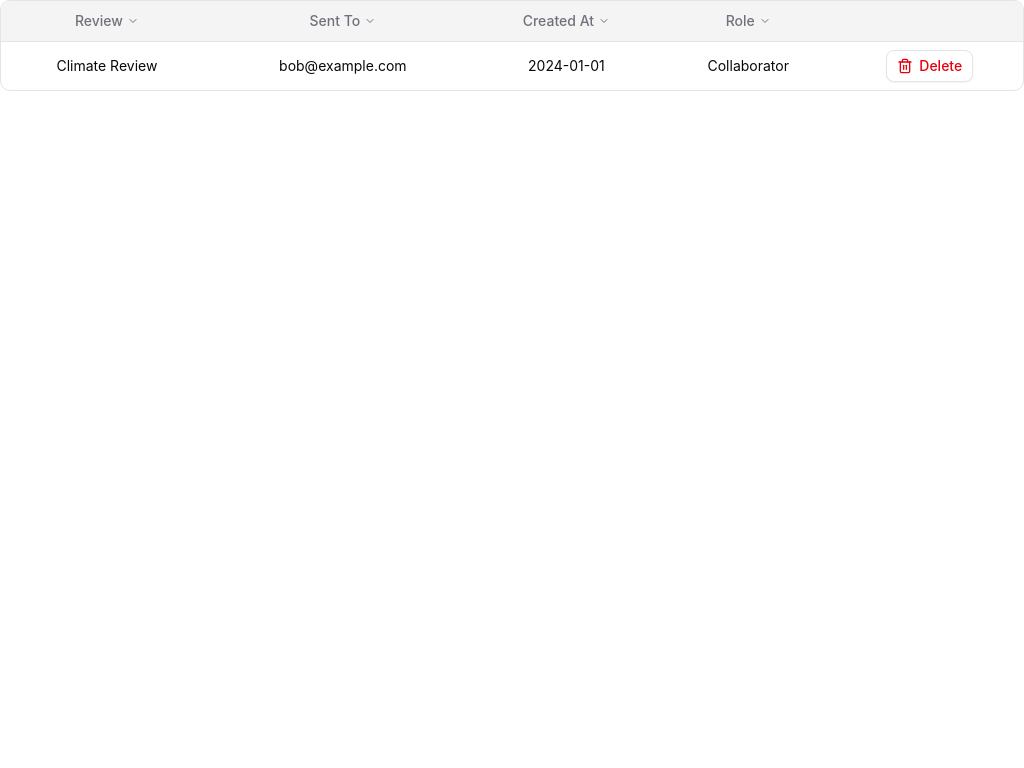
Test: Components - SentInvitationsTable › should show delete confirmation when trash button is clicked
# The delete button renders "Delete" text
Click the button "Delete".
click(930, 66)  # box [886,50,973,82]
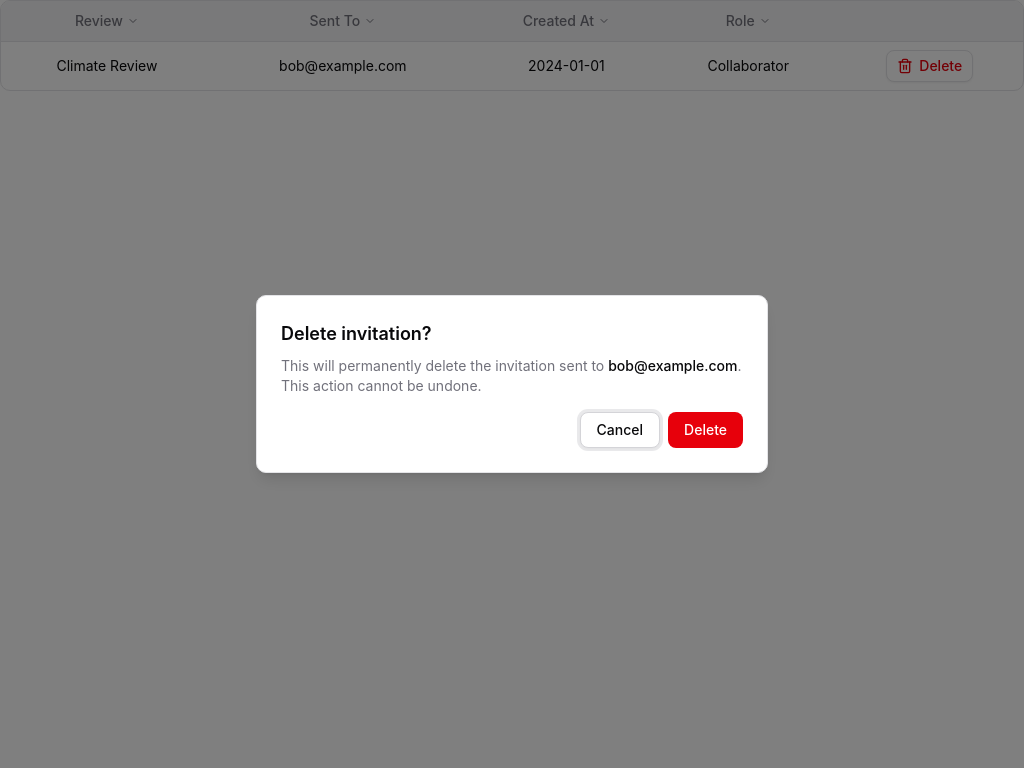
Expected: the heading "Delete invitation?" is shown, [281,323,432,344]
